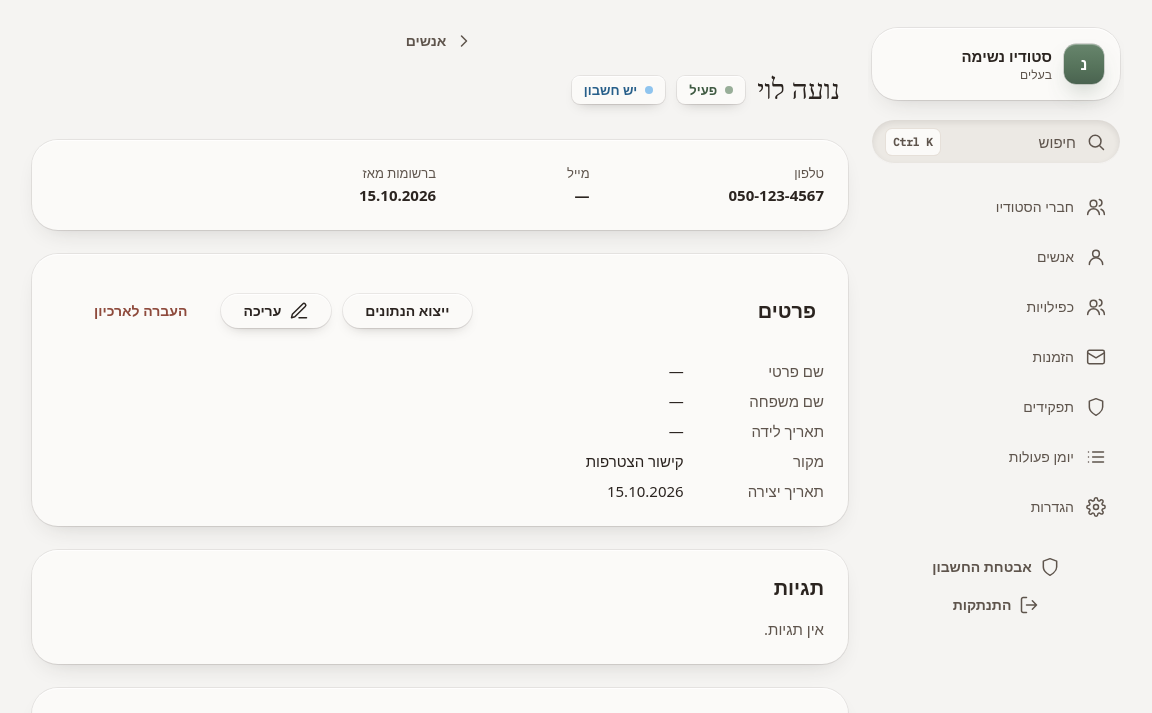
Test: export › downloads the person's data as JSON
Click the button "ייצוא הנתונים". click: (407, 311)
box: left=343, top=294, right=472, bottom=328
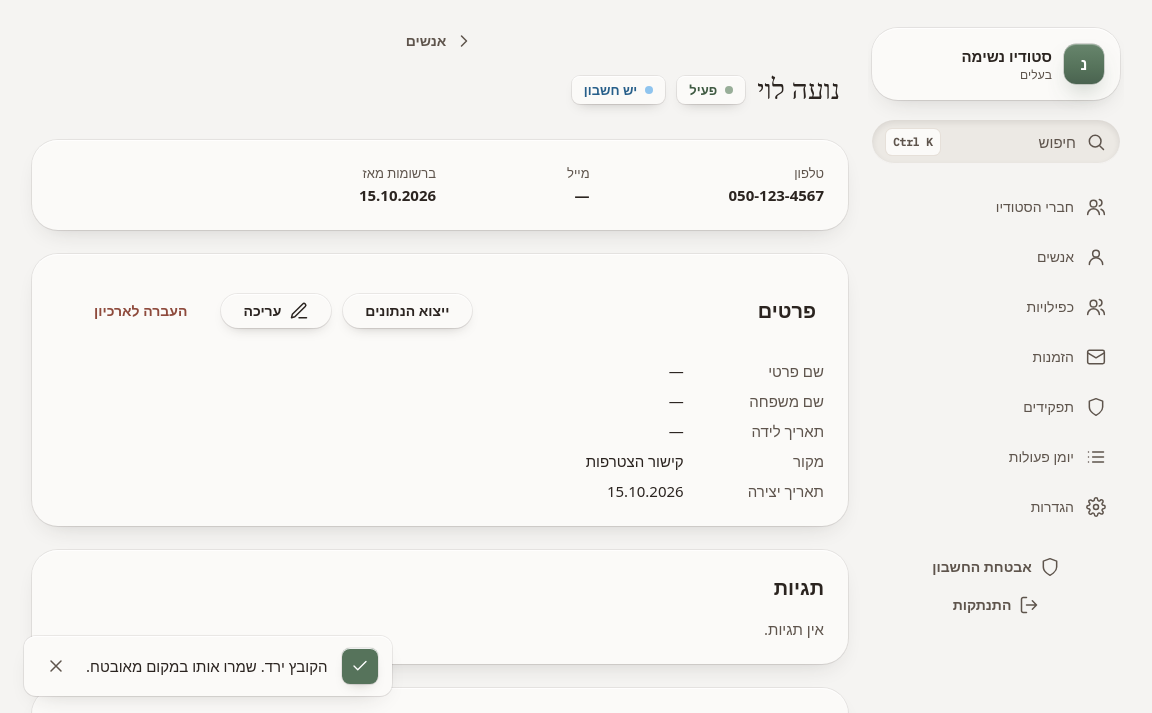
Now the text "הקובץ ירד. שמרו אותו במקום מאובטח." is shown, box left=86, top=655, right=328, bottom=677
